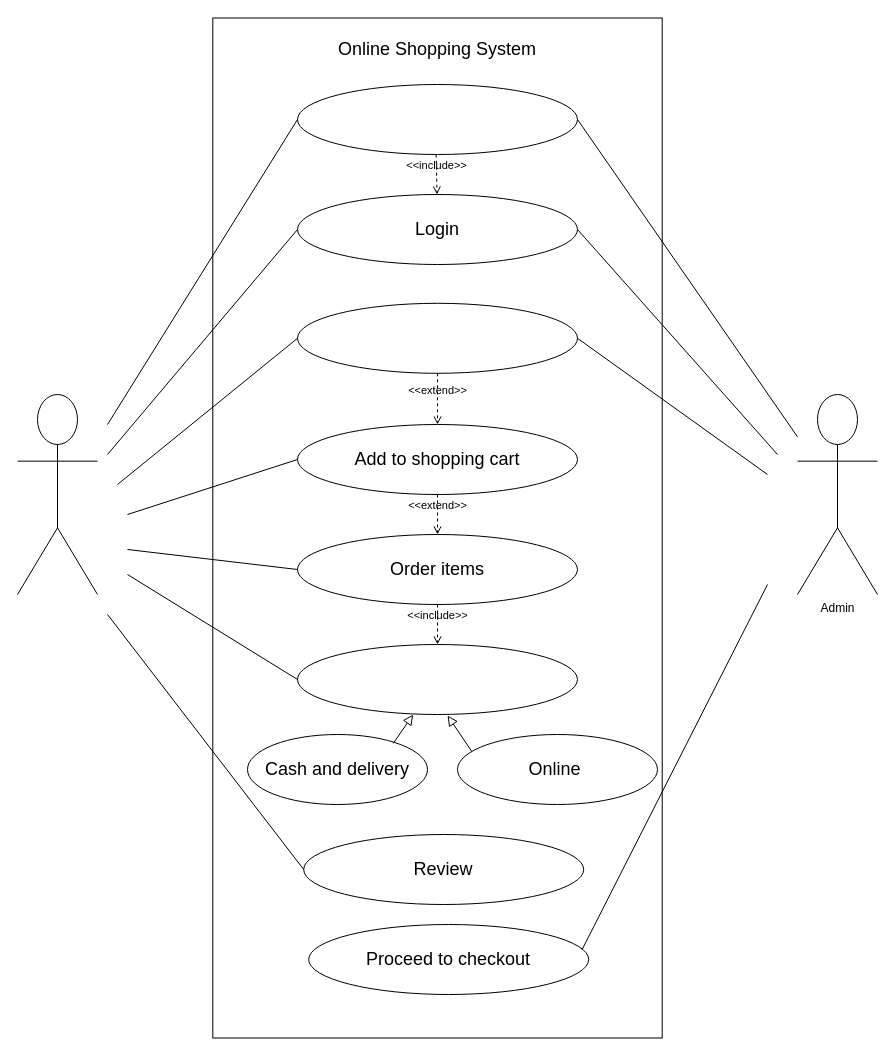
Some shapes in this 895 by 1055 pixel diagram are drawn without their labels. The box of each missing label's shape, as (x1, y1, x2, y2) in pixels:
Customer: (16, 394, 98, 594)
Payment: (296, 644, 578, 714)
Registration: (296, 84, 578, 154)
View and select items: (296, 302, 578, 373)
